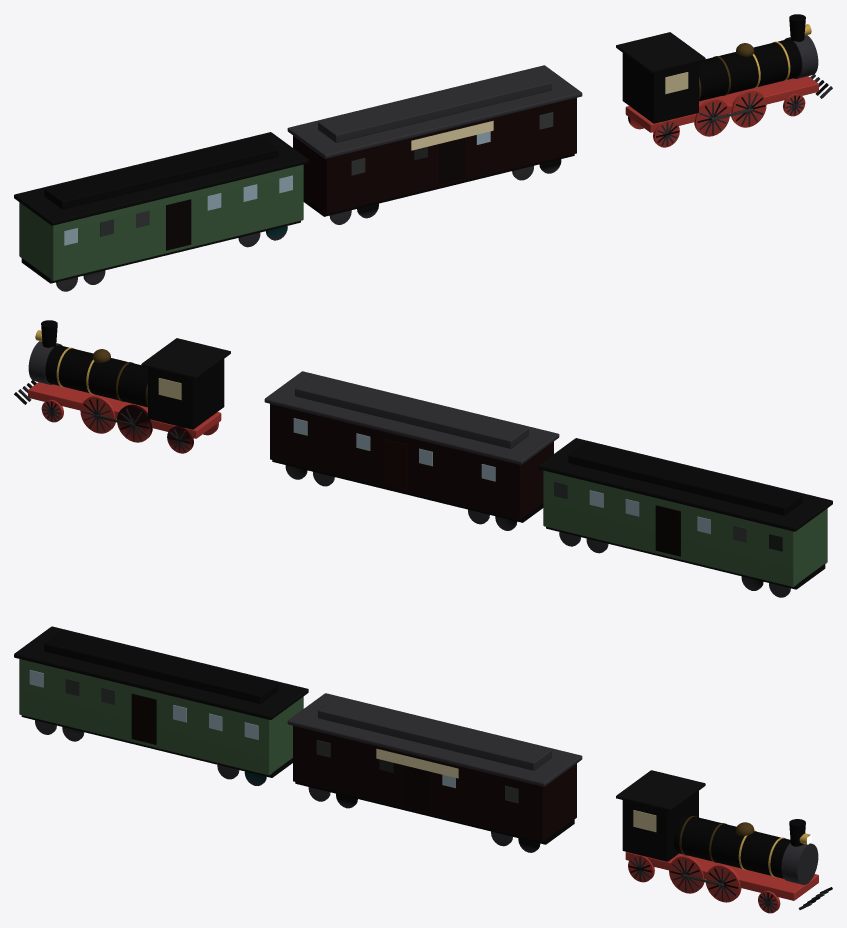
Rendered from train.glb.
The picture shows the model from 3 angles, top to bottom: view 1: azimuth 30°, elevation 25°; view 2: azimuth 150°, elevation 25°; view 3: azimuth 330°, elevation 25°; orthographic projection.
Visible parts, largest first — view 1: anim-coach-body, anim-mcar-body, anim-coach-clere, anim-mcar-clere, anim-coach-roof, anim-mcar-roof, anim-loco-boiler, anim-loco-cab, anim-loco-cabroof, anim-loco-frame, anim-coach-door1, anim-mcar-door1 (+6 smaller); view 2: anim-coach-body, anim-mcar-body, anim-coach-clere, anim-mcar-clere, anim-coach-roof, anim-mcar-roof, anim-loco-boiler, anim-loco-cab, anim-loco-cabroof, anim-loco-frame, anim-coach-door-1, anim-mcar-door-1 (+5 smaller); view 3: anim-mcar-body, anim-coach-body, anim-coach-clere, anim-mcar-clere, anim-coach-roof, anim-mcar-roof, anim-loco-boiler, anim-loco-cab, anim-loco-cabroof, anim-loco-frame, anim-loco-smokebox, anim-coach-door1 (+6 smaller).
Boxes of the visible parts, left/top/right/bottom form: anim-coach-body: left=19, top=164, right=303, bottom=280; anim-mcar-body: left=293, top=98, right=576, bottom=214; anim-coach-clere: left=44, top=136, right=278, bottom=209; anim-mcar-clere: left=318, top=69, right=551, bottom=142; anim-coach-roof: left=14, top=132, right=308, bottom=225; anim-mcar-roof: left=287, top=65, right=582, bottom=158; anim-loco-boiler: left=699, top=39, right=801, bottom=101; anim-loco-cab: left=622, top=53, right=698, bottom=123; anim-loco-cabroof: left=616, top=32, right=705, bottom=73; anim-loco-frame: left=625, top=76, right=818, bottom=132; anim-coach-door1: left=166, top=199, right=191, bottom=250; anim-mcar-door1: left=439, top=137, right=464, bottom=183; anim-coach-body: left=543, top=470, right=827, bottom=586; anim-mcar-body: left=270, top=404, right=553, bottom=520; anim-coach-clere: left=568, top=442, right=802, bottom=515; anim-mcar-clere: left=295, top=375, right=528, bottom=448; anim-coach-roof: left=538, top=438, right=832, bottom=531; anim-mcar-roof: left=264, top=371, right=559, bottom=464; anim-loco-boiler: left=45, top=345, right=147, bottom=407; anim-loco-cab: left=148, top=359, right=224, bottom=429; anim-loco-cabroof: left=141, top=338, right=230, bottom=379; anim-loco-frame: left=28, top=382, right=221, bottom=438; anim-coach-door-1: left=655, top=505, right=680, bottom=556; anim-mcar-door-1: left=382, top=438, right=407, bottom=489; anim-mcar-body: left=293, top=725, right=576, bottom=842; anim-coach-body: left=19, top=659, right=303, bottom=775; anim-coach-clere: left=44, top=630, right=278, bottom=703; anim-mcar-clere: left=318, top=697, right=551, bottom=770; anim-coach-roof: left=14, top=626, right=308, bottom=719; anim-mcar-roof: left=287, top=693, right=582, bottom=786; anim-loco-boiler: left=673, top=815, right=790, bottom=878; anim-loco-cab: left=622, top=791, right=698, bottom=861; anim-loco-cabroof: left=616, top=770, right=705, bottom=811; anim-loco-frame: left=625, top=852, right=818, bottom=900; anim-loco-smokebox: left=781, top=843, right=818, bottom=884; anim-coach-door1: left=131, top=693, right=156, bottom=744.
Size of the model in its own units: 34.62 by 3.72 by 2.9.
